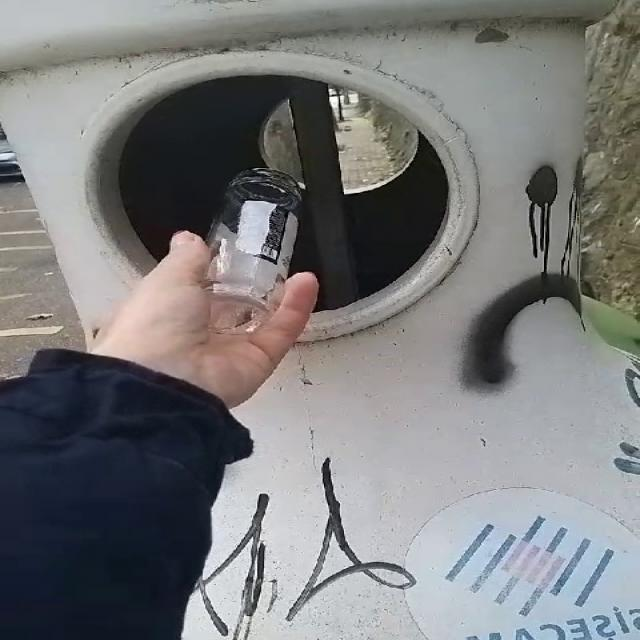Glass: (207, 168, 300, 335)
